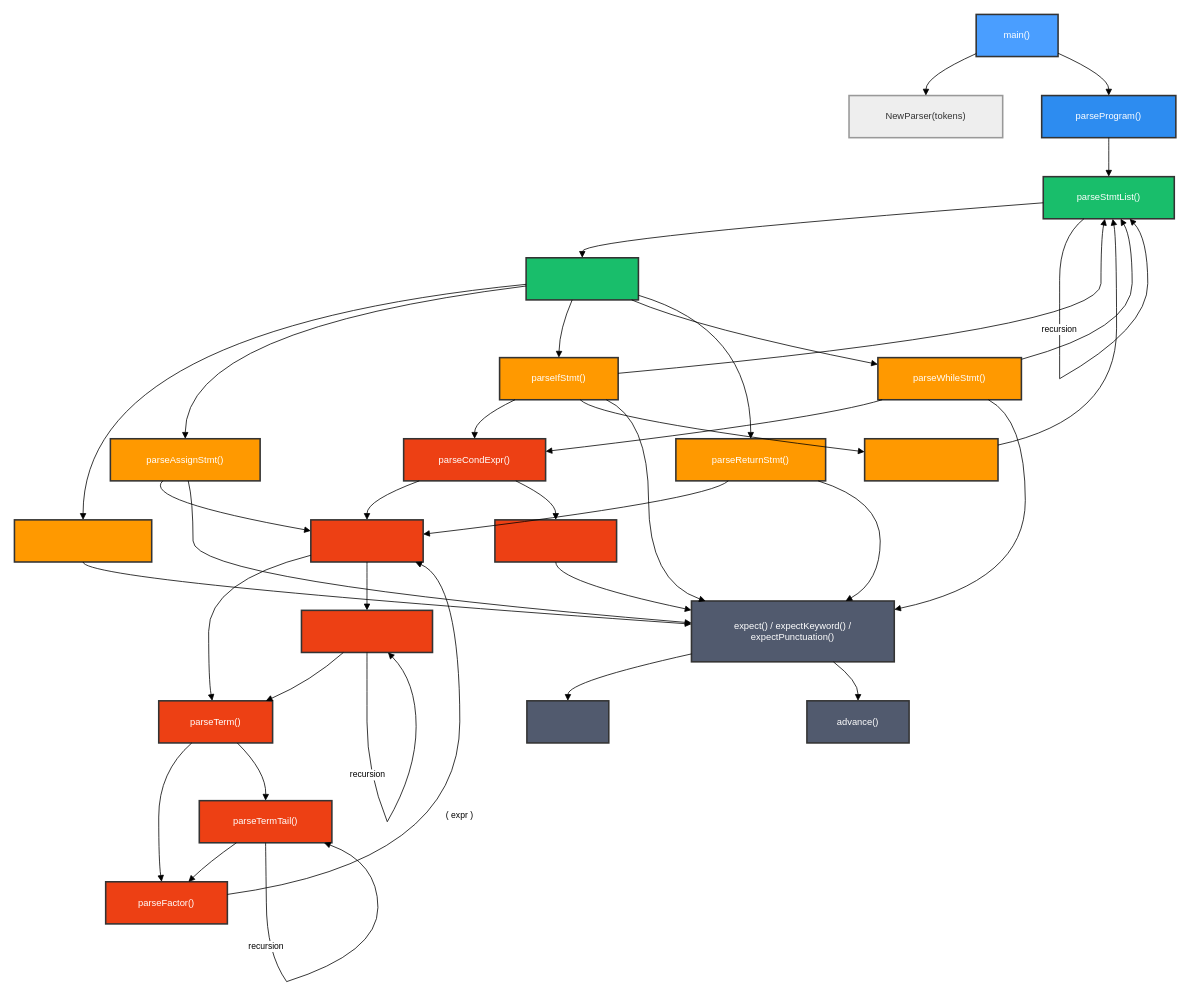
Image size: 1190x995. Some labels were removed from this diagram. The shapes that lost their labels are listed below. From the top down, each one's centre as x and y in pixels, then its label:
the point at 582,278: parseStmt()
the point at 930,459: parseElsePart()
the point at 82,540: parseDeclStmt()
the point at 367,540: parseExpr()
the point at 555,540: parseRelOp()
the point at 366,631: parseExprTail()
the point at 567,721: peek()
